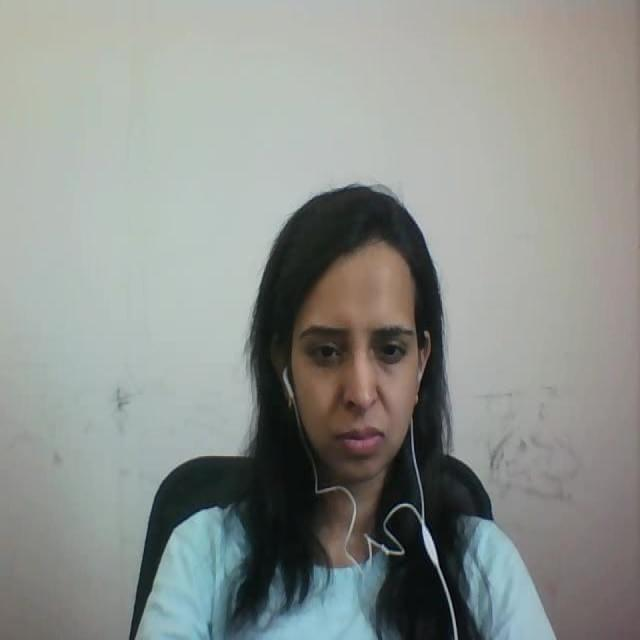Engaged: (266, 159, 457, 488)
